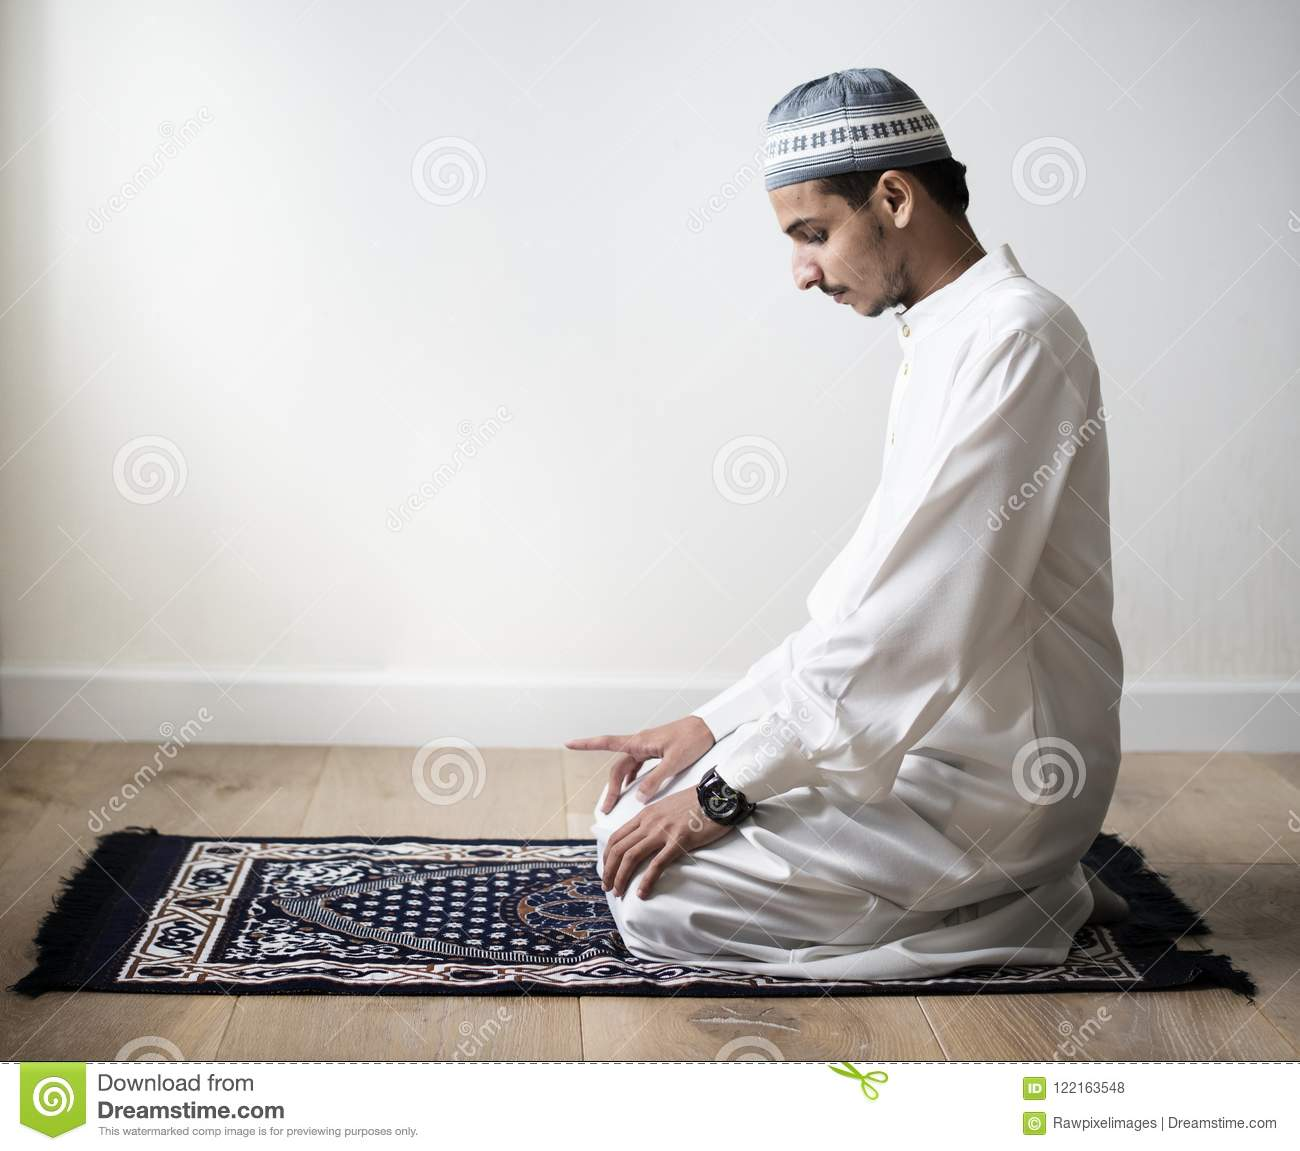sitting: (561, 58, 1156, 980)
